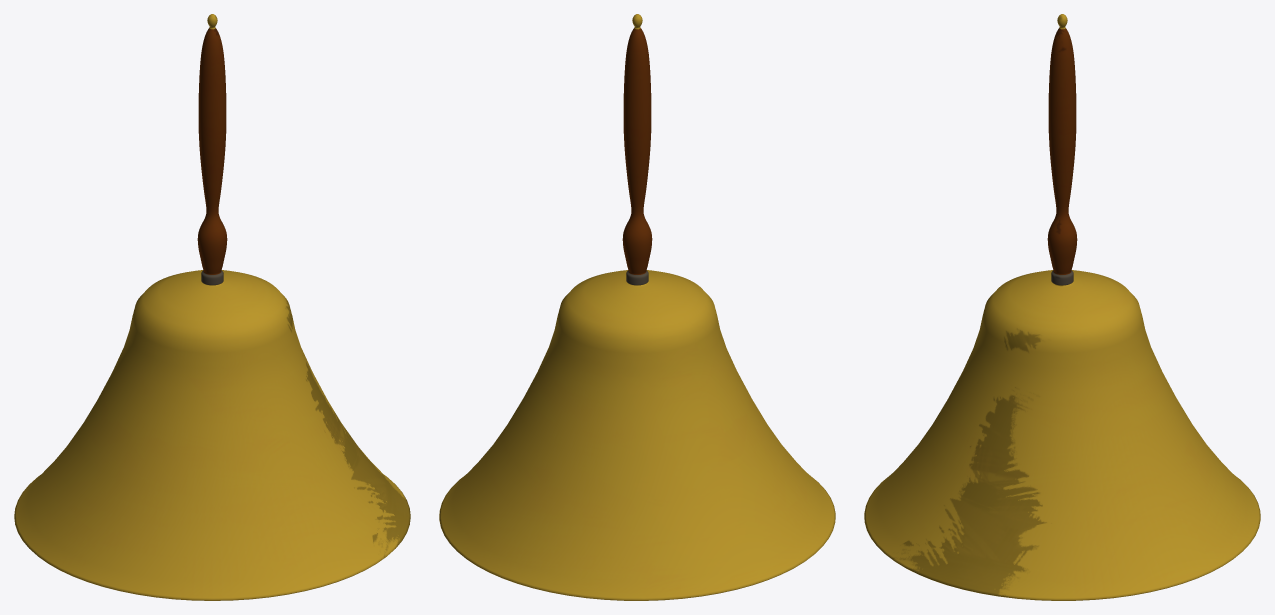
Rendered from Bell.fbx.
3 views of the same model, side by side, from view 1: azimuth 30°, elevation 25°; view 2: azimuth 150°, elevation 25°; view 3: azimuth 270°, elevation 25° (orthographic).
Parts seen in each view (by area): view 1: Bell; view 2: Bell; view 3: Bell.
Part boxes in pixels (x1,y1,x2,y2): Bell: (14,14,410,600); Bell: (439,14,835,600); Bell: (864,14,1260,600).
Bounding box in the file's own units: 196 × 275 × 196.
1 material, 1 textured.
